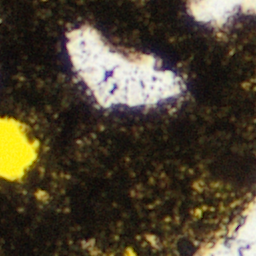air_pores: (0, 117, 38, 180)
cement_matrix: (0, 0, 255, 255), (66, 25, 183, 109)
cracks: (126, 253, 133, 255)
gravel_crushed_stones: (67, 26, 182, 108), (196, 196, 255, 255), (188, 0, 255, 28)
